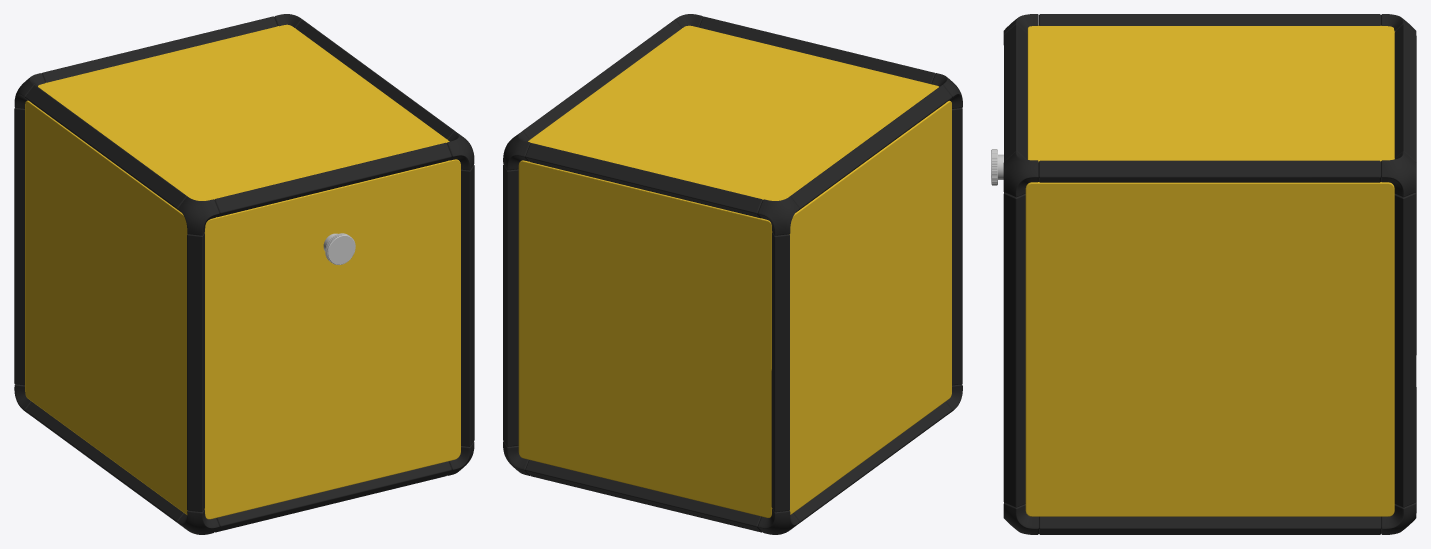
3 renders of one model, left to right at view 1: azimuth 30°, elevation 25°; view 2: azimuth 150°, elevation 25°; view 3: azimuth 270°, elevation 25°, orthographic. The views are drawn at different scales.
Visible parts, largest first — view 1: 329x374x374; view 2: 329x374x374; view 3: 329x374x374.
Part boxes in pixels (box(x1,y1,x2,y2)): 329x374x374: box(14, 14, 474, 534); 329x374x374: box(503, 14, 962, 534); 329x374x374: box(991, 14, 1416, 534).
Bounding box in the file's own units: 0.4067 × 0.4516 × 0.4646.
